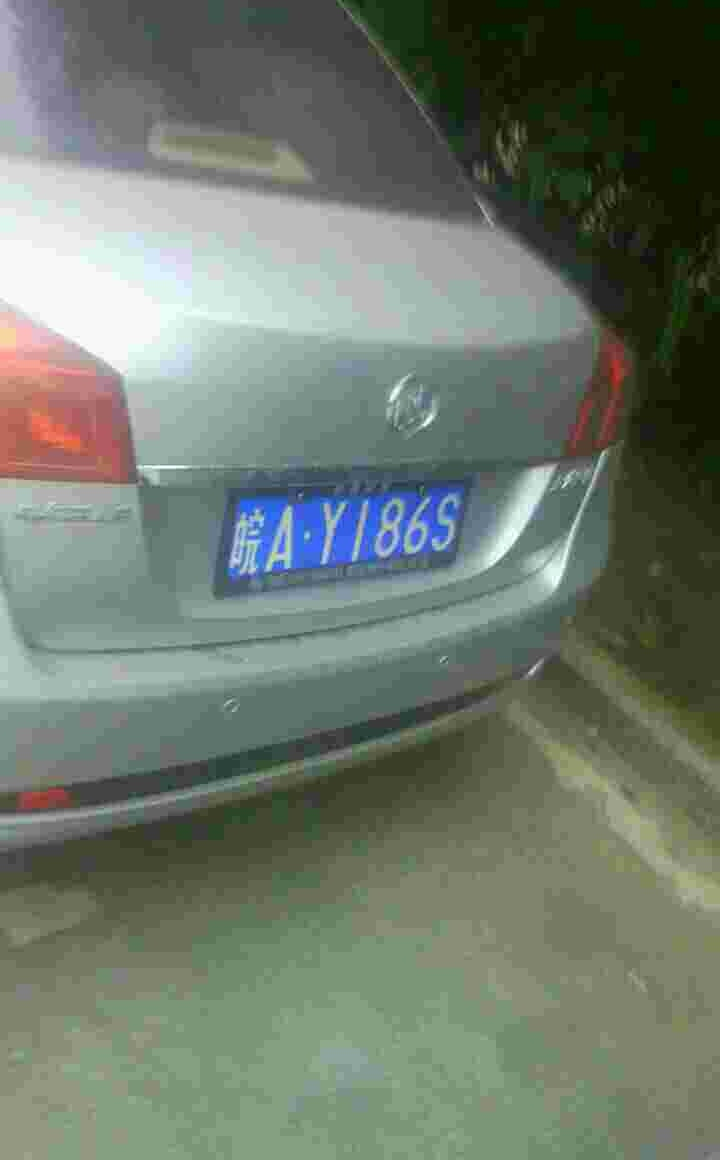license_plate: (228, 485, 476, 584)
